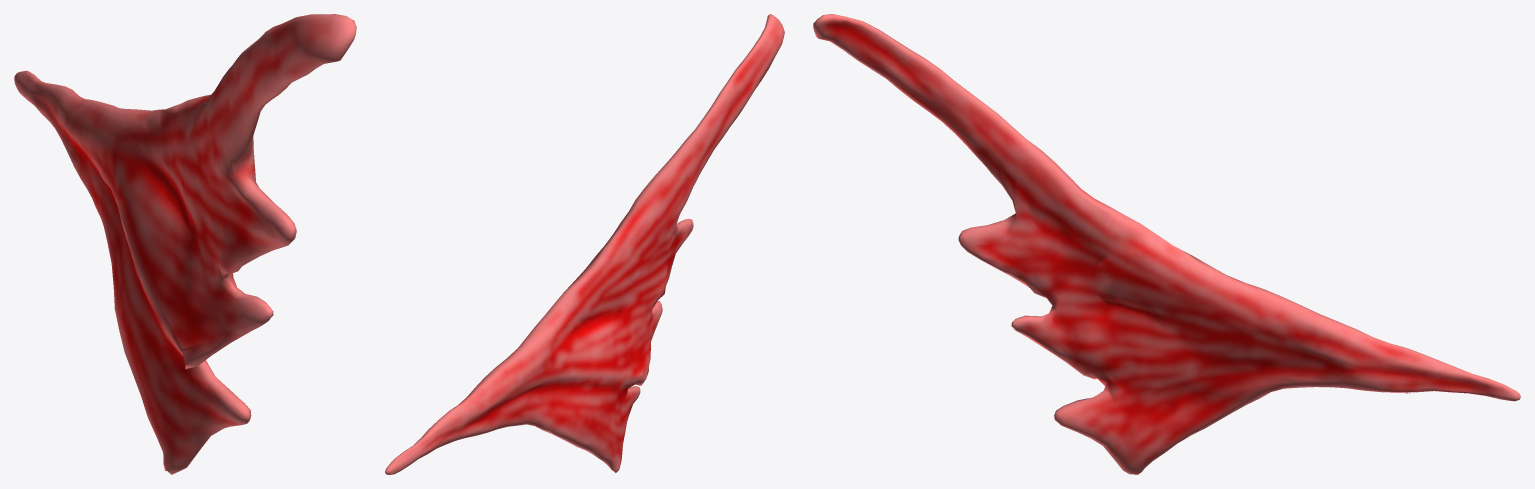
The model's file is splenius.glb.
The picture shows the model from 3 angles, left to right: view 1: azimuth 30°, elevation 25°; view 2: azimuth 150°, elevation 25°; view 3: azimuth 270°, elevation 25°; orthographic projection. The views are drawn at different scales.
Parts seen in each view (by area): view 1: splenius1.010; view 2: splenius1.010; view 3: splenius1.010.
Boxes of the visible parts, x1,y1,x2,y2 form: splenius1.010: (14,14,356,474); splenius1.010: (385,14,784,474); splenius1.010: (813,14,1520,474).
Bounding box in the file's own units: 0.1483 × 0.458 × 0.6607.
Materials: 1 (1 with a texture image).
